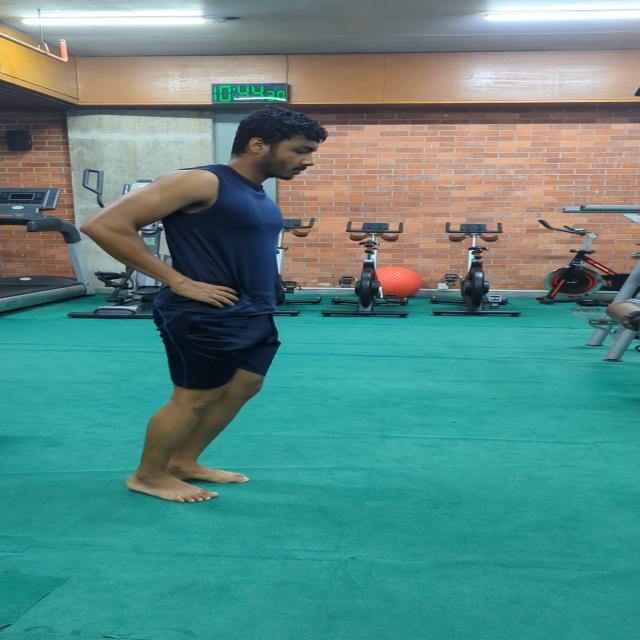Normal_Lunges: (72, 102, 397, 512)
